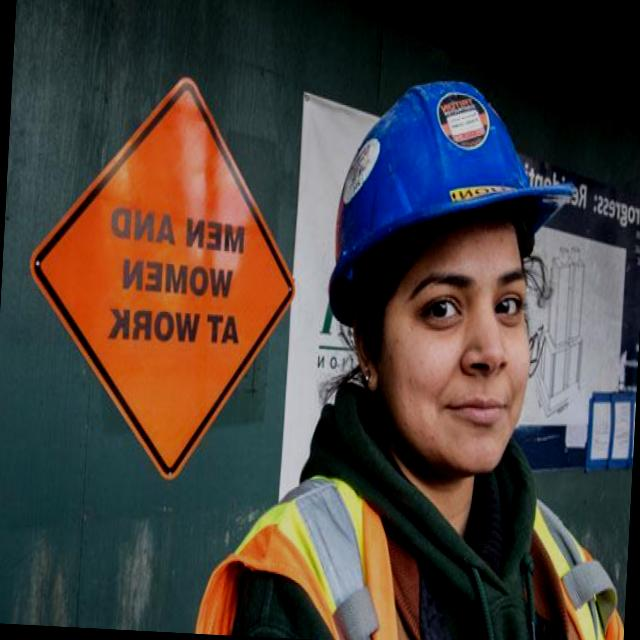helmet: (308, 54, 586, 332)
vest: (203, 458, 622, 640)
